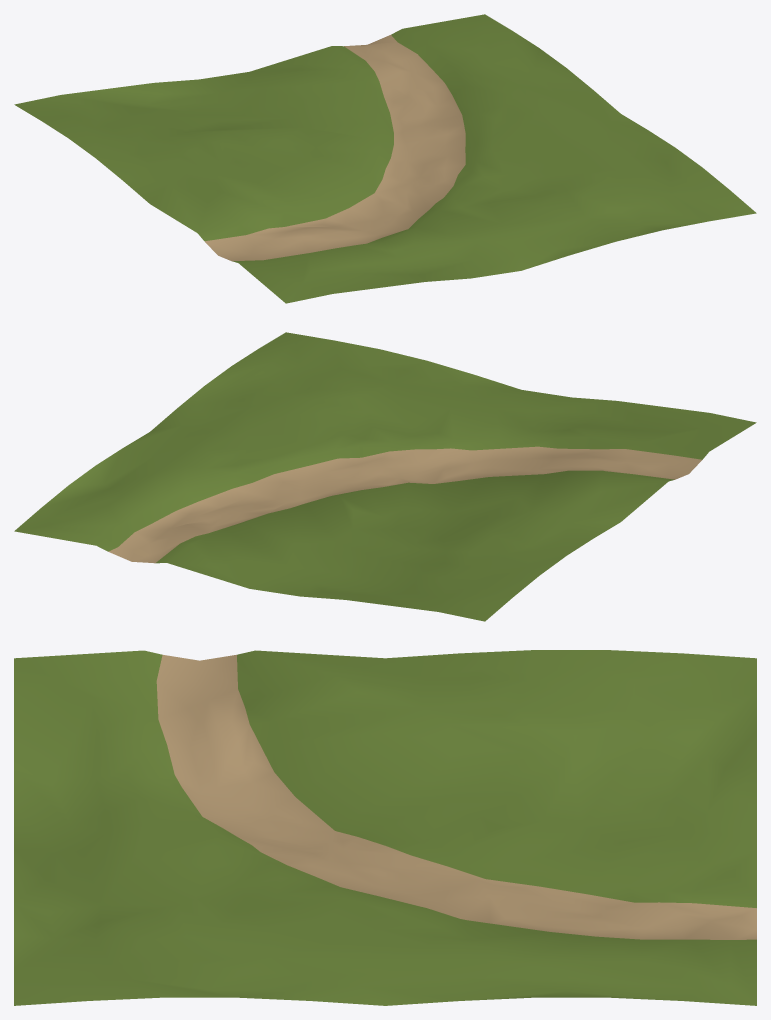
The model's file is rpgpp_ag_terrain_path_09_20x20m_corner_a_slope_1m.fbx.
3 renders of one model, top to bottom at view 1: azimuth 30°, elevation 25°; view 2: azimuth 150°, elevation 25°; view 3: azimuth 270°, elevation 25°, orthographic. The views are drawn at different scales.
Visible parts, largest first — view 1: rpgpp_ag_terrain_path_09_20x20m_corner_a_slope_1m; view 2: rpgpp_ag_terrain_path_09_20x20m_corner_a_slope_1m; view 3: rpgpp_ag_terrain_path_09_20x20m_corner_a_slope_1m.
Part boxes in pixels (<box>): rpgpp_ag_terrain_path_09_20x20m_corner_a_slope_1m: <box>14,14,756,303</box>; rpgpp_ag_terrain_path_09_20x20m_corner_a_slope_1m: <box>14,332,756,621</box>; rpgpp_ag_terrain_path_09_20x20m_corner_a_slope_1m: <box>14,650,756,1005</box>.
Bounding box in the file's own units: 20 × 1.41 × 20.
